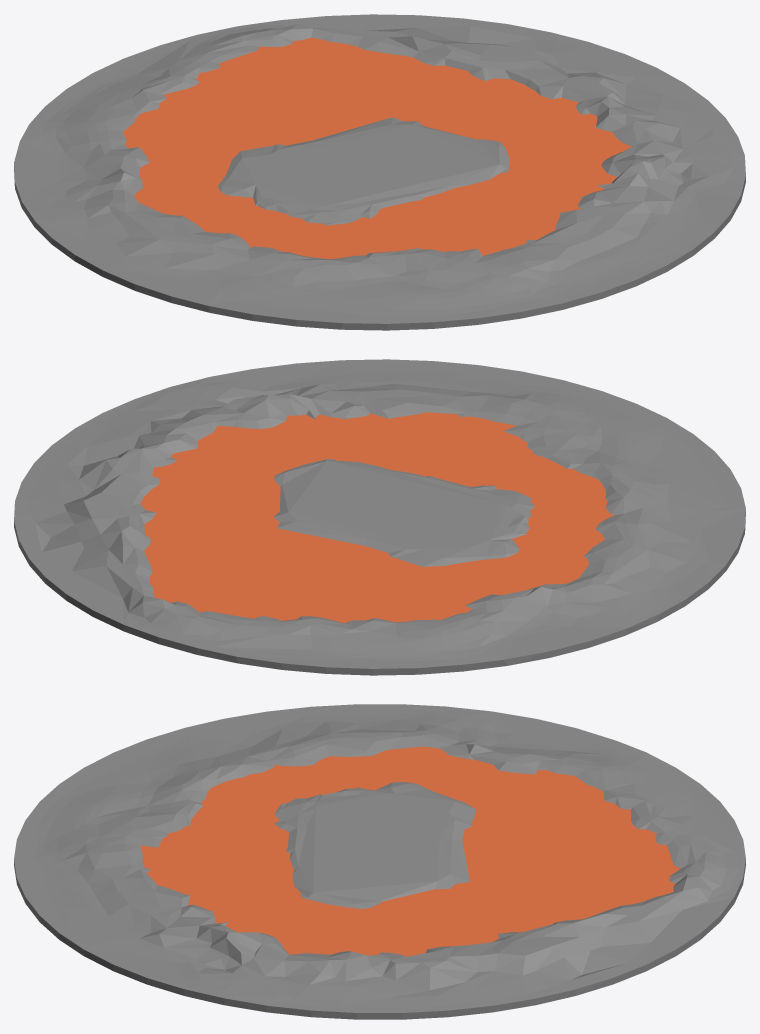
Rendered from LavaBattleMap.fbx.
The picture shows the model from 3 angles, top to bottom: view 1: azimuth 30°, elevation 25°; view 2: azimuth 150°, elevation 25°; view 3: azimuth 270°, elevation 25°; orthographic projection.
Visible parts, largest first — view 1: Battle_LavaWorld, Battle_Lava; view 2: Battle_LavaWorld, Battle_Lava; view 3: Battle_LavaWorld, Battle_Lava.
Part boxes in pixels (bbox=[...]): Battle_LavaWorld: bbox=[14, 14, 745, 330]; Battle_Lava: bbox=[123, 37, 631, 259]; Battle_LavaWorld: bbox=[14, 359, 745, 675]; Battle_Lava: bbox=[140, 412, 614, 623]; Battle_LavaWorld: bbox=[14, 704, 745, 1019]; Battle_Lava: bbox=[140, 746, 680, 956].
Size of the model in its own units: 9980 by 10000 by 365.
